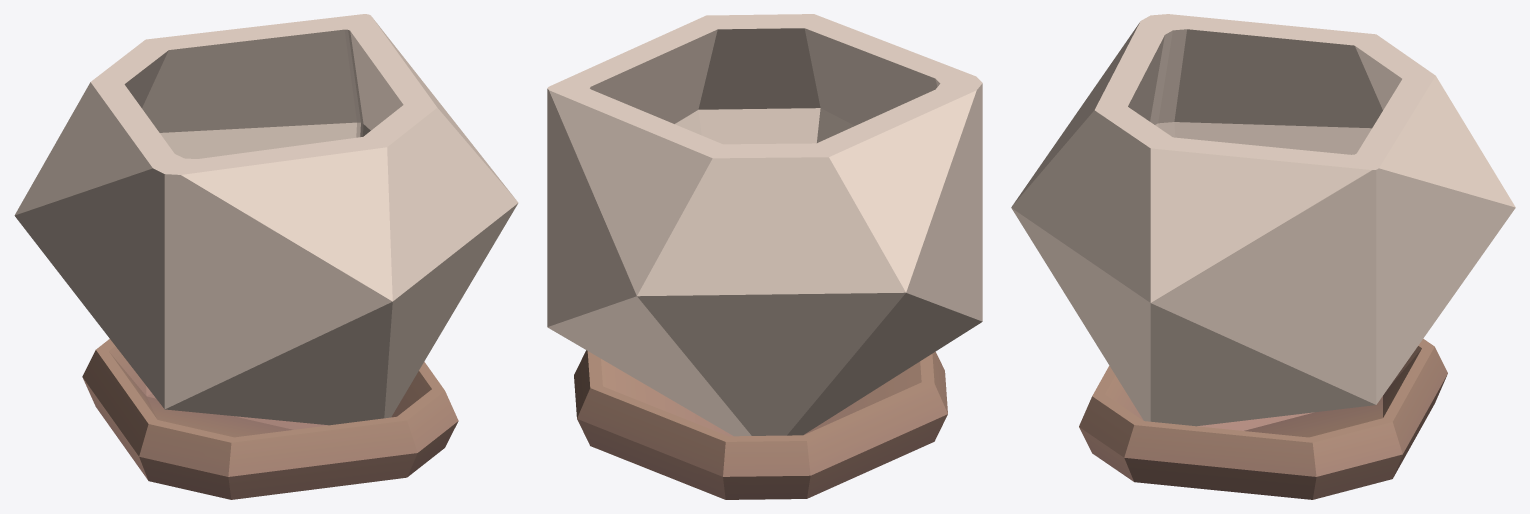
The model's file is PlantPot_19.fbx.
3 renders of one model, left to right at view 1: azimuth 30°, elevation 25°; view 2: azimuth 150°, elevation 25°; view 3: azimuth 270°, elevation 25°, orthographic.
Visible parts, largest first — view 1: PlantPot_19; view 2: PlantPot_19; view 3: PlantPot_19.
Part boxes in pixels (bbox=[...]): PlantPot_19: bbox=[14, 14, 518, 499]; PlantPot_19: bbox=[547, 14, 982, 499]; PlantPot_19: bbox=[1011, 14, 1515, 499].
Bounding box in the file's own units: 30.35 × 24.77 × 33.93.
